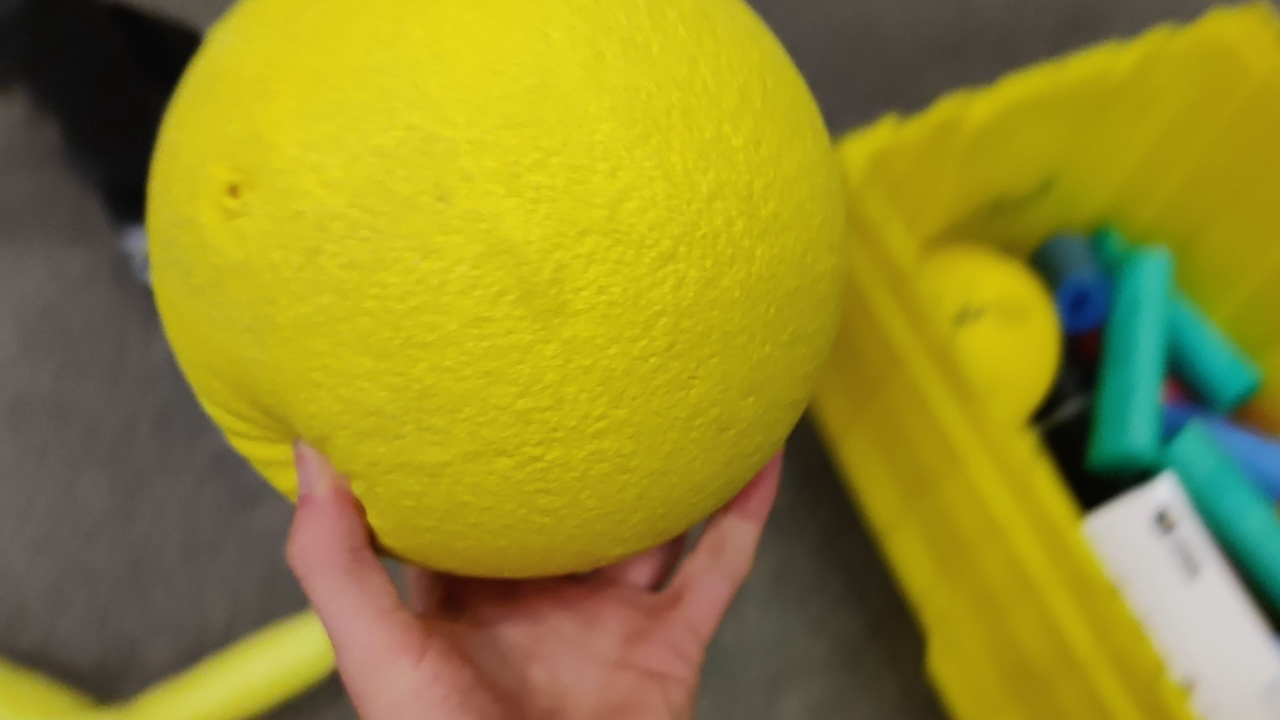Ball: (143, 1, 853, 569)
